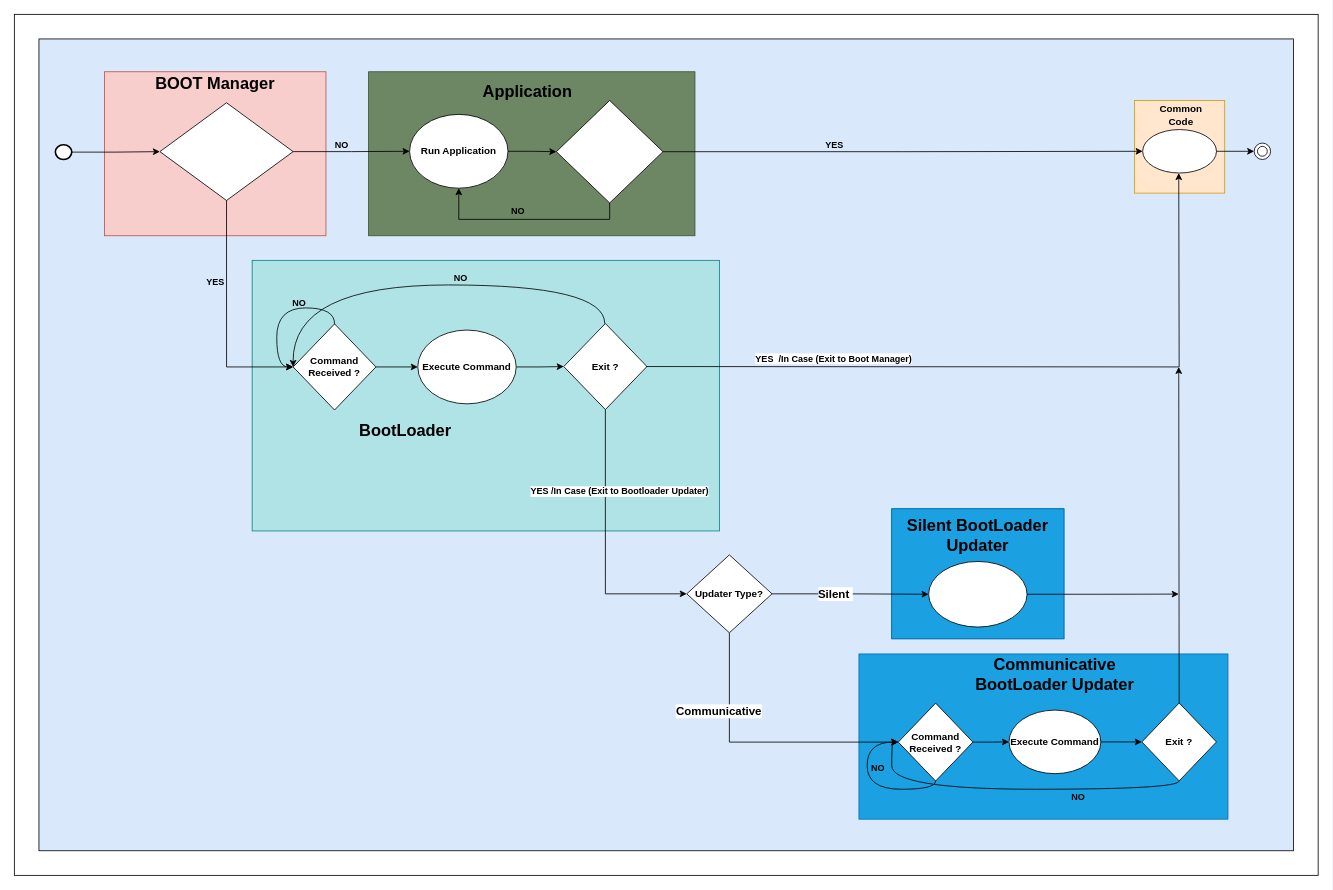
The diagram is 1333 pixels wide and 890 high, and some of its shapes have lost their labels. The shapes that lost their labels are listed below. From the top down, each one's centre as x and y in pixels, then its label:
pixel 226 151: Enter Bootloader ?
pixel 609 151: Bootloader Request ?
pixel 1179 151: SW Reset
pixel 977 594: Update Bootloader
